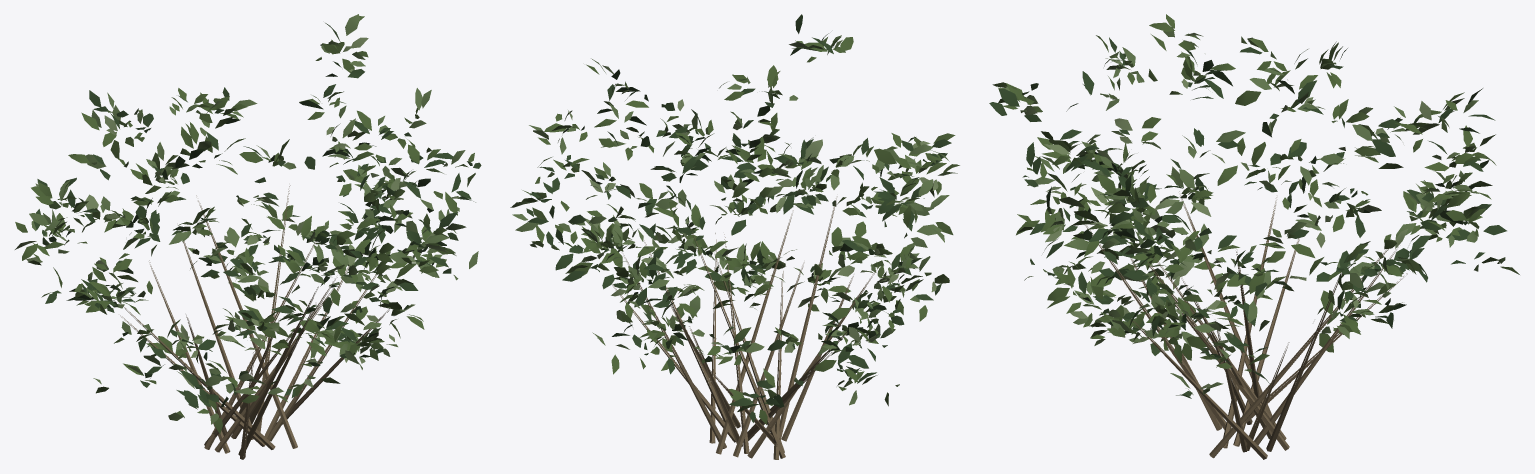
File: verge_fine_shrub_palette_mobile.glb
The picture shows the model from 3 angles, left to right: view 1: azimuth 30°, elevation 25°; view 2: azimuth 150°, elevation 25°; view 3: azimuth 270°, elevation 25°; orthographic projection. The views are drawn at different scales.
Visible parts, largest first — view 1: MobileNeedlesMerged; view 2: MobileNeedlesMerged; view 3: MobileNeedlesMerged.
Boxes of the visible parts, x1=… form: MobileNeedlesMerged: x1=15, y1=14, x2=481, y2=459; MobileNeedlesMerged: x1=510, y1=14, x2=959, y2=459; MobileNeedlesMerged: x1=989, y1=14, x2=1519, y2=459.
Bounding box in the file's own units: 1.45 × 1.25 × 1.42.
Materials: 1 (1 with a texture image).
